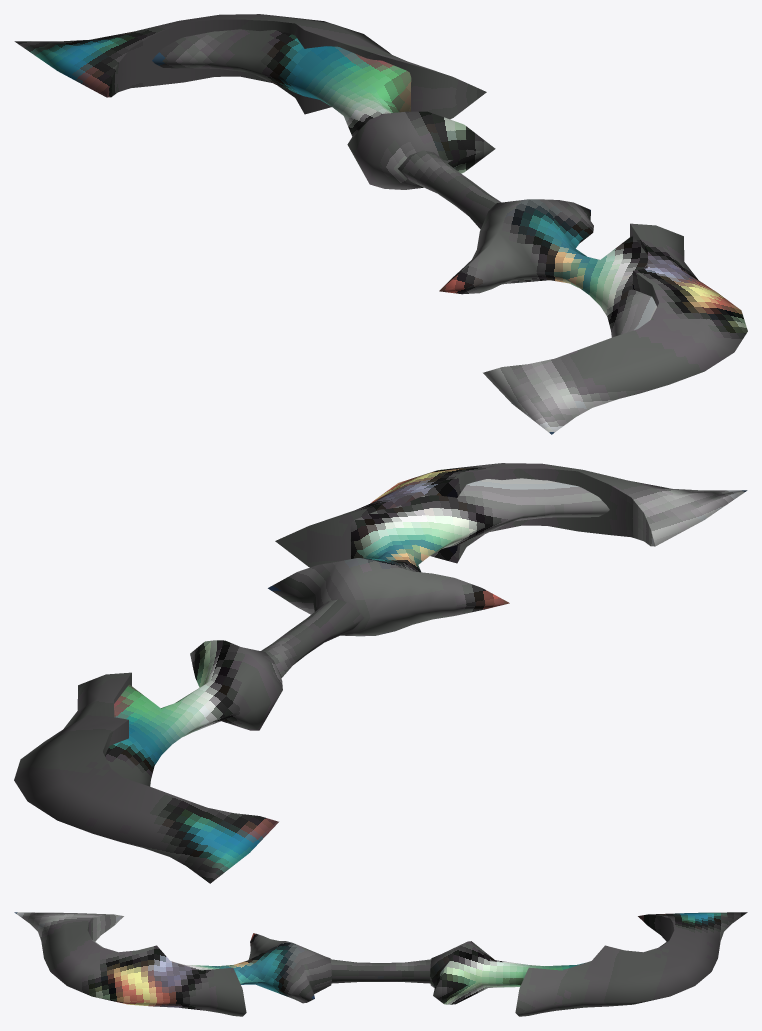
3 renders of one model, top to bottom at view 1: azimuth 30°, elevation 25°; view 2: azimuth 150°, elevation 25°; view 3: azimuth 270°, elevation 25°, orthographic. The views are drawn at different scales.
Parts seen in each view (by area): view 1: "Editable Poly"; view 2: "Editable Poly"; view 3: "Editable Poly".
Part boxes in pixels (box(x1,y1,x2,y2)): "Editable Poly": box(14, 14, 747, 434); "Editable Poly": box(14, 463, 747, 883); "Editable Poly": box(14, 912, 747, 1016).
Bounding box in the file's own units: 0.4757 × 0.1265 × 1.46.
